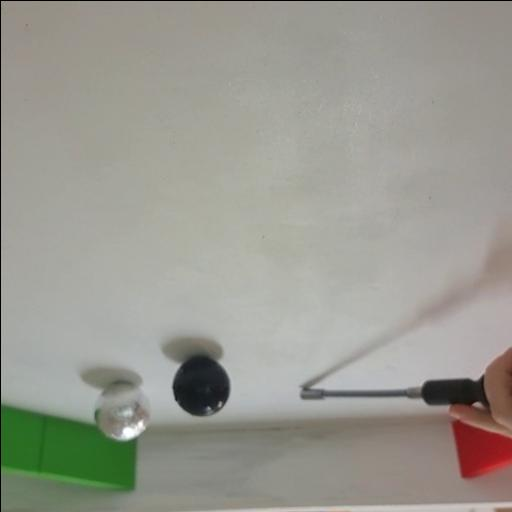alive: (90, 380, 152, 442)
dead: (170, 355, 230, 417)
